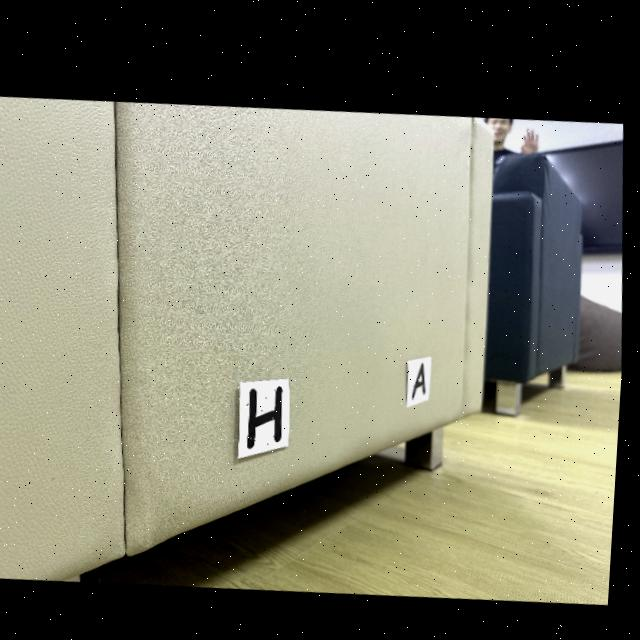A: (417, 354, 430, 390)
H: (252, 380, 287, 443)
